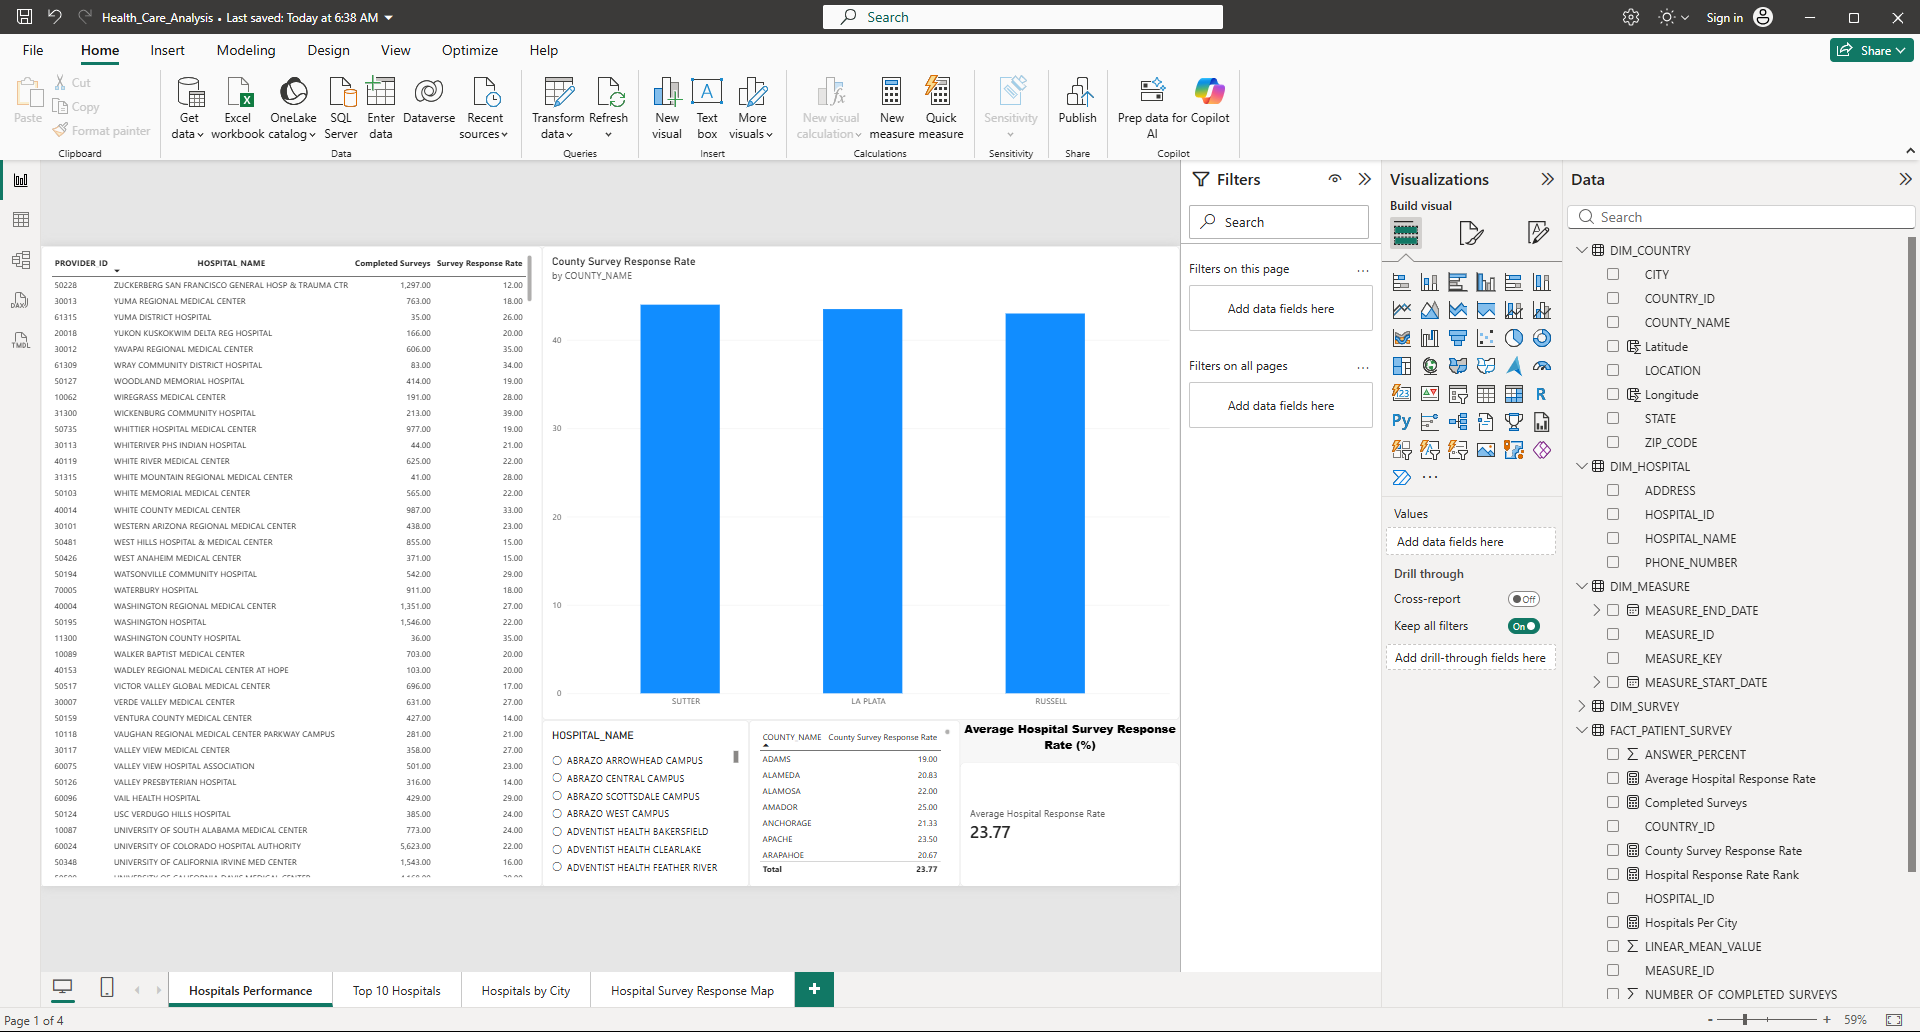

What the dashboard file says about the page in this screenshot:
{"tool":"powerbi","page":{"name":"Hospitals Performance","canvas":[1920,1080],"ordinal":0},"visuals":[{"type":"tableEx","fields":{"Values":["DIM_HOSPITAL.PROVIDER_ID","DIM_HOSPITAL.HOSPITAL_NAME","FACT_PATIENT_SURVEY.Completed Surveys","FACT_PATIENT_SURVEY.Survey Response Rate"]},"box":[0,0,844.5,1080.5],"z":0},{"type":"clusteredColumnChart","fields":{"Category":["DIM_COUNTRY.COUNTY_NAME"],"Y":["FACT_PATIENT_SURVEY.County Survey Response Rate"]},"box":[844.5,0,1075.5,799],"z":1000},{"type":"listSlicer","fields":{"Values":["DIM_HOSPITAL.HOSPITAL_NAME"]},"box":[844.5,799,348.9,281.5],"z":2000},{"type":"tableEx","fields":{"Values":["DIM_COUNTRY.COUNTY_NAME","FACT_PATIENT_SURVEY.County Survey Response Rate"]},"box":[1193.5,799,355.7,281.5],"z":3000},{"type":"cardVisual","title":"Average Hospital Survey Response Rate (%)","fields":{"Data":["FACT_PATIENT_SURVEY.Average Hospital Response Rate"]},"box":[1549.1,800.7,370.9,279.8],"z":3001}]}

Visuals, with their boxes on the page's 1920x1080 design canvas (x1, y1, x2, y2). These are canvas units, not pixel positions in the 1920x1032 screenshot, which may show the page scaled, cropped or inside an application window:
tableEx - DIM_HOSPITAL.PROVIDER_ID x DIM_HOSPITAL.HOSPITAL_NAME: locate(0, 0, 844, 1080)
clusteredColumnChart - DIM_COUNTRY.COUNTY_NAME x FACT_PATIENT_SURVEY.County Survey Response Rate: locate(844, 0, 1920, 799)
listSlicer - DIM_HOSPITAL.HOSPITAL_NAME: locate(844, 799, 1193, 1080)
tableEx - DIM_COUNTRY.COUNTY_NAME x FACT_PATIENT_SURVEY.County Survey Response Rate: locate(1194, 799, 1549, 1080)
"Average Hospital Survey Response Rate (%)" cardVisual: locate(1549, 801, 1920, 1080)
